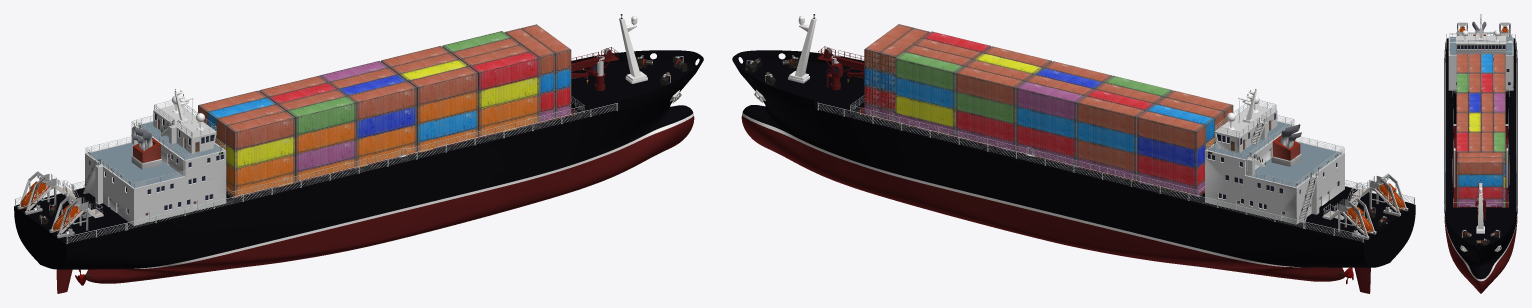
File: cargo-ship.glb
3 views of the same model, side by side, from view 1: azimuth 30°, elevation 25°; view 2: azimuth 150°, elevation 25°; view 3: azimuth 270°, elevation 25° (orthographic). The views are drawn at different scales.
Parts seen in each view (by area): view 1: Object_79, Object_7, Object_2, Object_16, Object_22, Object_82, Object_25, Object_3, Object_34, Object_13, Object_9, Object_11 (+5 smaller); view 2: Object_79, Object_7, Object_2, Object_16, Object_22, Object_3, Object_11, Object_34, Object_9, Object_13, Object_30, Object_25 (+4 smaller); view 3: Object_79, Object_2, Object_7, Object_22, Object_16, Object_3, Object_34, Object_11, Object_9, Object_25, Object_13, Object_17 (+6 smaller).
Part boxes in pixels (<box>): Object_79: <box>14,50,703,269</box>; Object_7: <box>56,47,694,293</box>; Object_2: <box>198,24,571,150</box>; Object_16: <box>17,56,604,238</box>; Object_22: <box>15,16,693,268</box>; Object_82: <box>215,91,539,197</box>; Object_25: <box>226,59,539,168</box>; Object_3: <box>268,51,571,112</box>; Object_34: <box>207,68,571,142</box>; Object_13: <box>87,121,223,187</box>; Object_9: <box>287,31,510,135</box>; Object_11: <box>295,61,571,172</box>; Object_79: <box>732,50,1415,267</box>; Object_7: <box>741,46,1370,293</box>; Object_2: <box>864,24,1233,171</box>; Object_16: <box>831,55,1408,239</box>; Object_22: <box>742,16,1414,267</box>; Object_3: <box>864,31,1204,186</box>; Object_11: <box>864,81,1204,196</box>; Object_34: <box>864,67,1214,153</box>; Object_9: <box>895,51,1172,123</box>; Object_13: <box>1208,121,1341,187</box>; Object_30: <box>1035,68,1205,168</box>; Object_25: <box>895,53,1042,127</box>; Object_79: <box>1444,38,1517,279</box>; Object_2: <box>1456,53,1505,174</box>; Object_7: <box>1444,95,1517,293</box>; Object_22: <box>1444,15,1517,281</box>; Object_16: <box>1448,22,1513,199</box>; Object_3: <box>1456,73,1503,199</box>; Object_34: <box>1457,53,1505,186</box>; Object_11: <box>1457,93,1505,207</box>; Object_9: <box>1456,73,1505,207</box>; Object_25: <box>1456,112,1505,188</box>; Object_13: <box>1450,37,1512,55</box>; Object_17: <box>1453,34,1508,187</box>.
Bounding box in the file's own units: 131 × 34.49 × 18.99.
44 materials, 39 textured.
